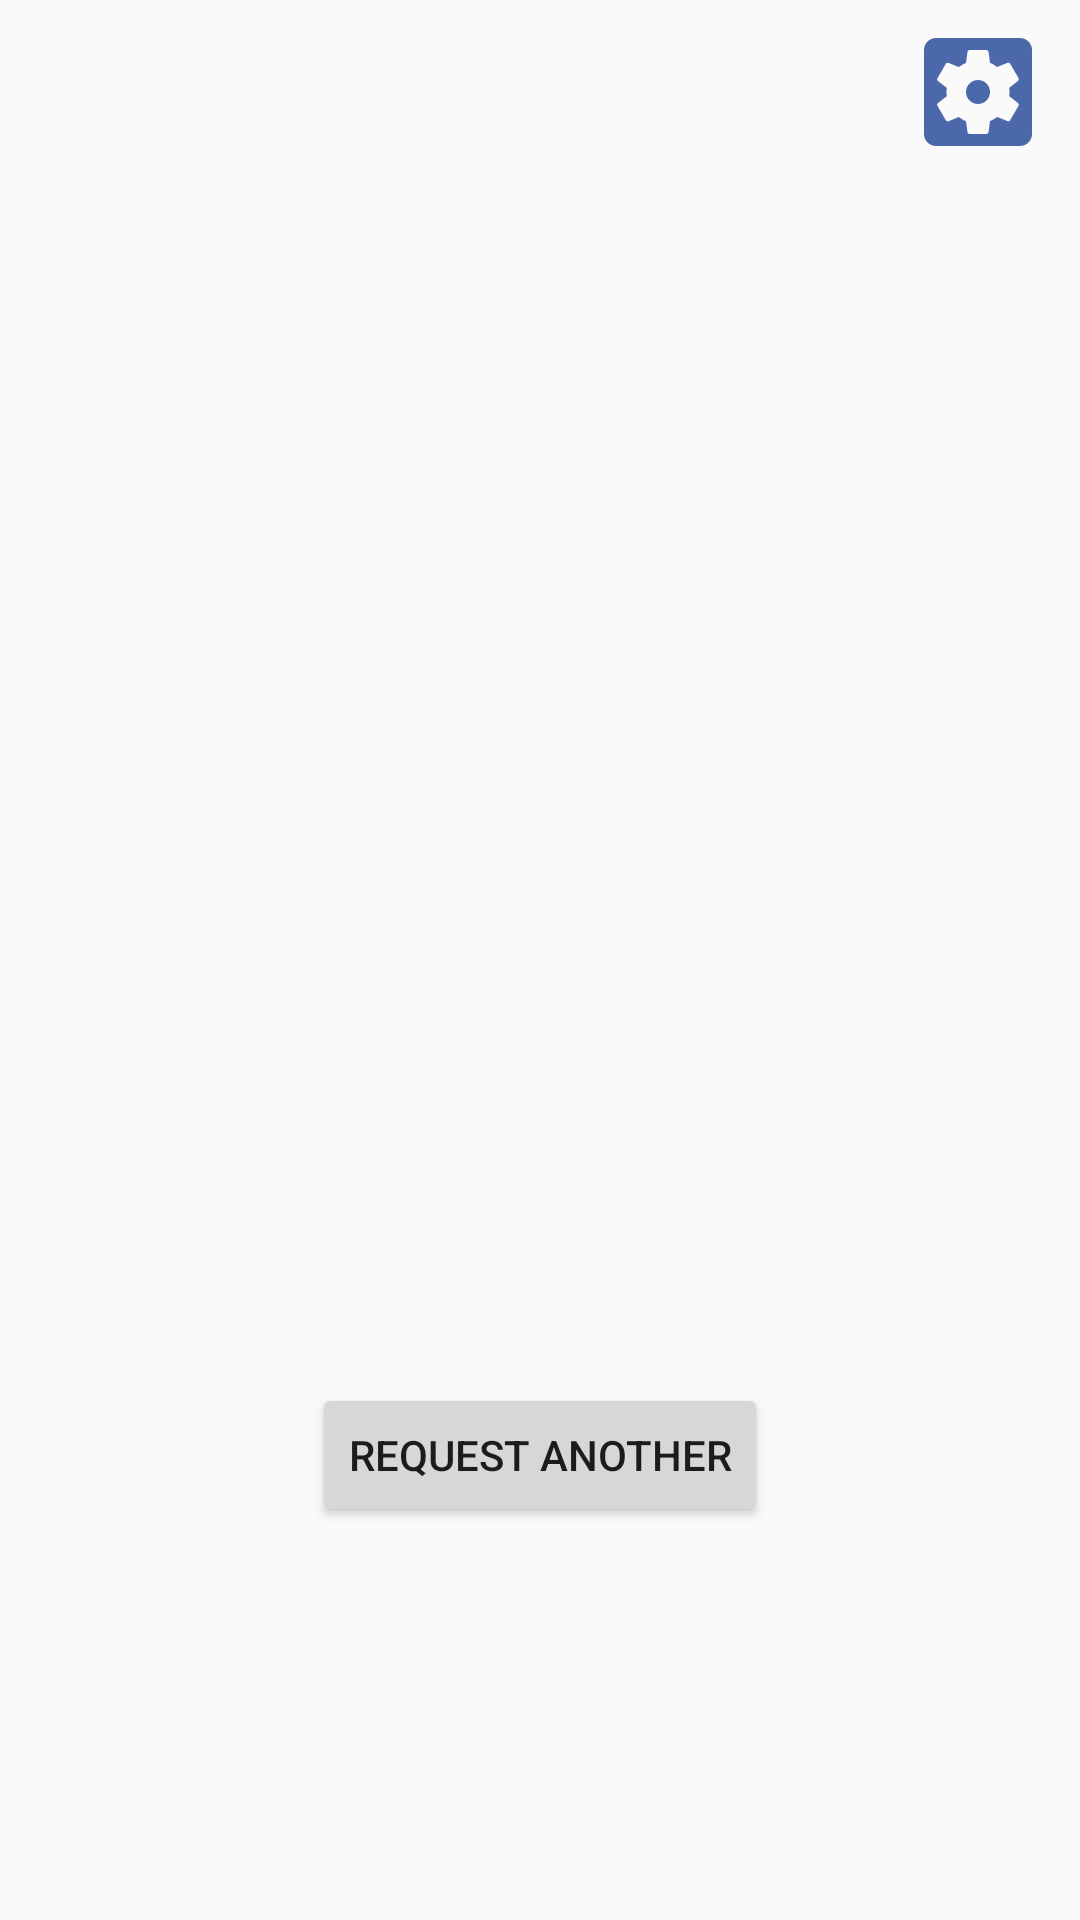

Named icons in this screenshot (1080*1920) and their centers, (x=x, y=y):
settings applications: (x=978, y=92)
